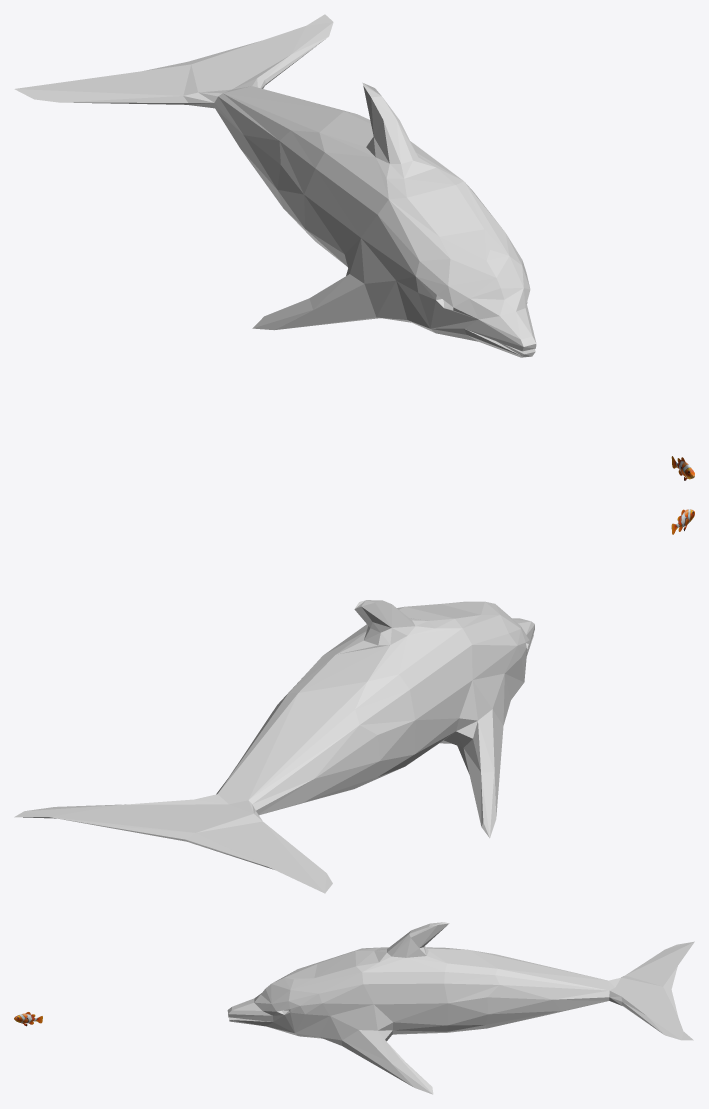
3 views of the same model, one above another, from view 1: azimuth 30°, elevation 25°; view 2: azimuth 150°, elevation 25°; view 3: azimuth 270°, elevation 25° (orthographic). The views are drawn at different scales.
Visible parts, largest first — view 1: Cube.001; view 2: Cube.001; view 3: Cube.001.
Boxes of the visible parts, x1,y1,x2,y2 form: Cube.001: [14, 14, 536, 357]; Cube.001: [14, 600, 534, 893]; Cube.001: [227, 922, 694, 1094].
Bounding box in the file's own units: 0.8786 × 0.5627 × 2.57.
Materials: 2 (1 with a texture image).
